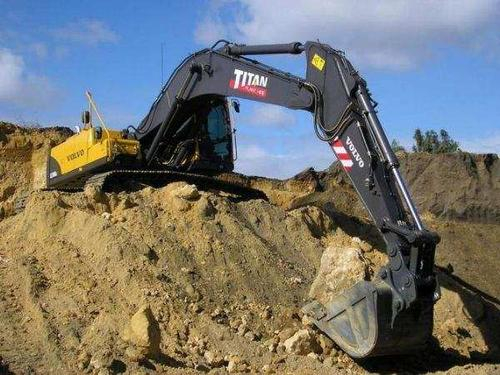excavator: (36, 25, 446, 375)
